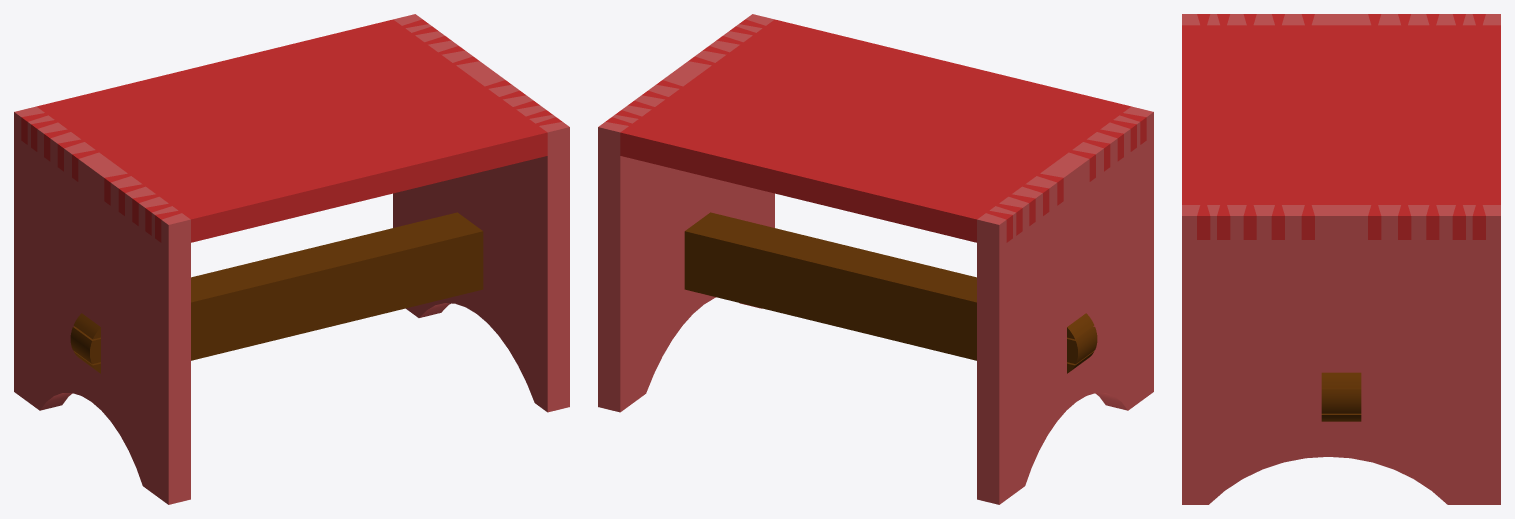
3 renders of one model, left to right at view 1: azimuth 30°, elevation 25°; view 2: azimuth 150°, elevation 25°; view 3: azimuth 270°, elevation 25°, orthographic. The views are drawn at different scales.
Visible parts, largest first — view 1: mesh4_mesh4-geometry, mesh6_mesh6-geometry, mesh1_mesh1-geometry, mesh10_mesh10-geometry, mesh9_mesh9-geometry; view 2: mesh4_mesh4-geometry, mesh6_mesh6-geometry, mesh1_mesh1-geometry, mesh10_mesh10-geometry, mesh9_mesh9-geometry; view 3: mesh1_mesh1-geometry, mesh4_mesh4-geometry, mesh6_mesh6-geometry, mesh9_mesh9-geometry.
Part boxes in pixels (x1,y1,x2,y2): mesh4_mesh4-geometry: (21,19,562,242); mesh6_mesh6-geometry: (14,106,190,504); mesh1_mesh1-geometry: (393,14,569,412); mesh10_mesh10-geometry: (191,212,483,360); mesh9_mesh9-geometry: (70,313,100,373); mesh4_mesh4-geometry: (605,19,1146,242); mesh6_mesh6-geometry: (977,106,1153,504); mesh1_mesh1-geometry: (598,14,774,412); mesh10_mesh10-geometry: (684,212,976,360); mesh9_mesh9-geometry: (1067,313,1097,373); mesh1_mesh1-geometry: (1182,205,1500,504); mesh4_mesh4-geometry: (1182,14,1500,239); mesh6_mesh6-geometry: (1182,14,1500,25); mesh9_mesh9-geometry: (1321,372,1361,421).
Size of the model in its own units: 0.7458 by 0.471 by 0.471.
